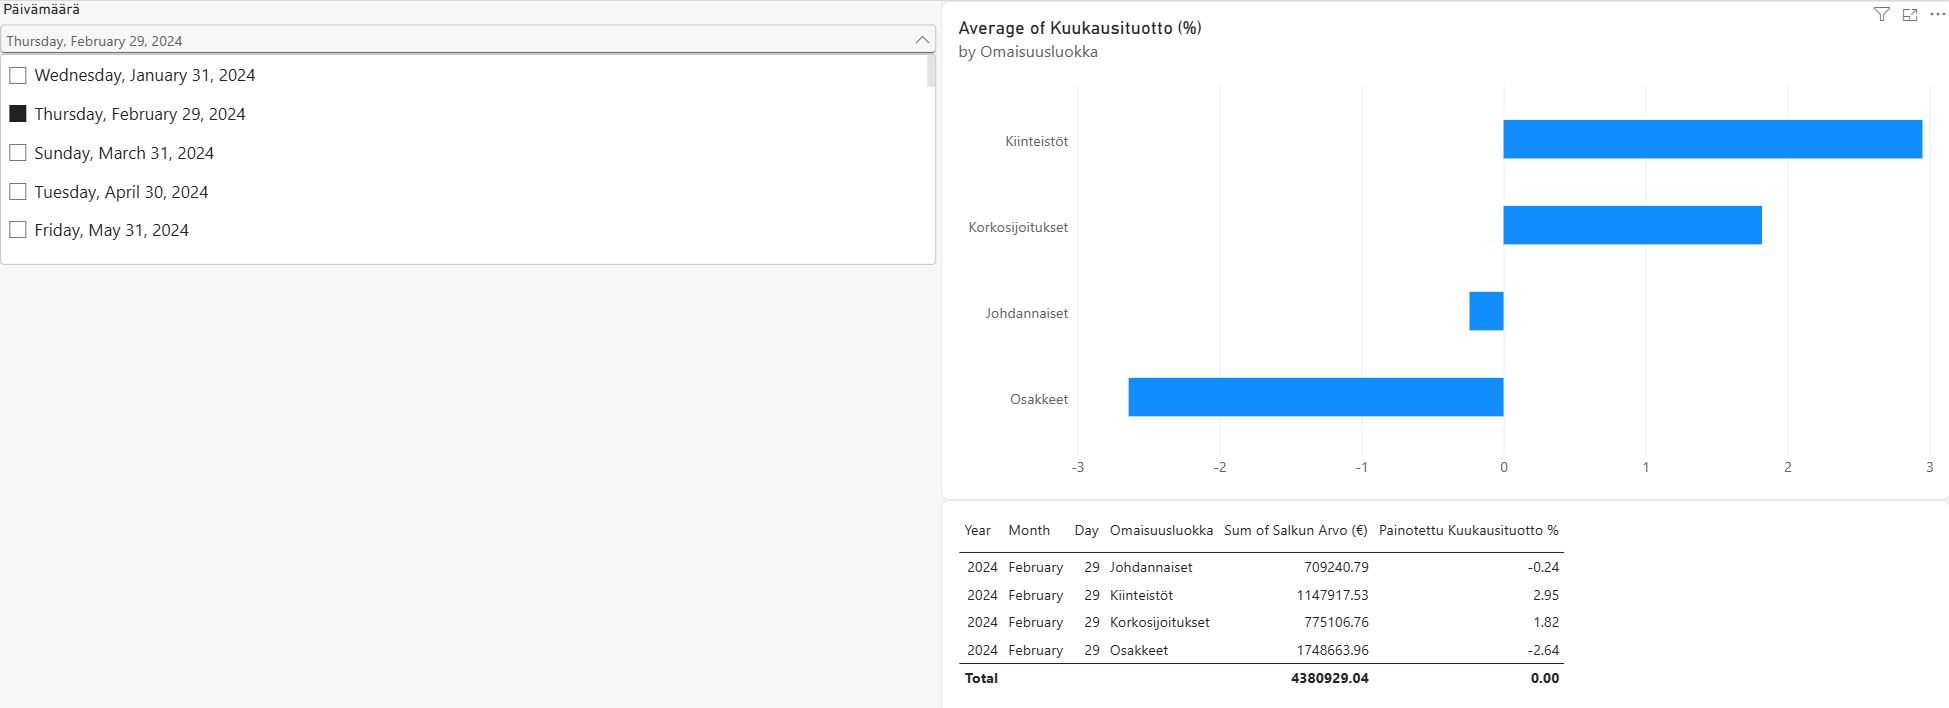

The page's visual inventory and layout, read from the dashboard file:
{"tool":"powerbi","page":{"name":"Page 2","canvas":[1920,1080],"ordinal":1},"visuals":[{"type":"clusteredBarChart","fields":{"Category":["sijoitusdata.Omaisuusluokka"],"Y":["Avg(sijoitusdata.Kuukausituotto (%))"]},"box":[928.6,0,991.4,489.8],"z":0},{"type":"tableEx","fields":{"Values":["sijoitusdata.Päivämäärä.Variation.Date Hierarchy.Year","sijoitusdata.Päivämäärä.Variation.Date Hierarchy.Month","sijoitusdata.Päivämäärä.Variation.Date Hierarchy.Day","sijoitusdata.Omaisuusluokka","Sum(sijoitusdata.Salkun Arvo (€))","sijoitusdata.Painotettu Kuukausituotto %"]},"box":[928.6,489.8,991.4,538.9],"z":1000},{"type":"slicer","fields":{"Values":["sijoitusdata.Päivämäärä"]},"box":[0,0,928.6,489.8],"z":1001}]}

Visuals, with their boxes on the page's 1920x1080 design canvas (x1, y1, x2, y2). These are canvas units, not pixel positions in the 1949x708 screenshot, which may show the page scaled, cropped or inside an application window:
clusteredBarChart - sijoitusdata.Omaisuusluokka x Avg(sijoitusdata.Kuukausituotto (%)): Rect(929, 0, 1920, 490)
tableEx - sijoitusdata.Päivämäärä.Variation.Date Hierarchy.Year x sijoitusdata.Päivämäärä.Variation.Date Hierarchy.Month: Rect(929, 490, 1920, 1029)
slicer - sijoitusdata.Päivämäärä: Rect(0, 0, 929, 490)
